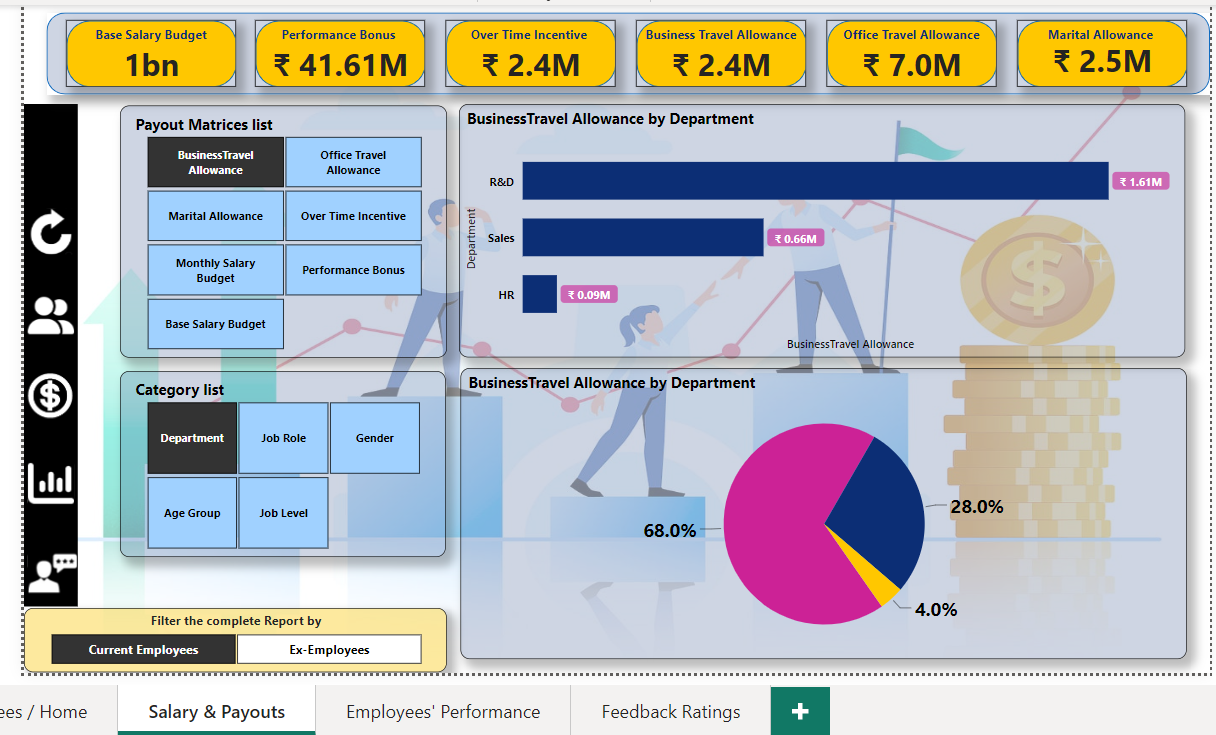

The dashboard page shown, as its layout file describes it:
{"tool":"powerbi","page":{"name":"Salary & Payouts","canvas":[1280,720],"ordinal":1},"visuals":[{"type":"shape","title":"backgroung","box":[24.3,8.1,1255,88.3],"z":0,"group":"g2"},{"type":"shape","box":[45.6,16.1,183.3,71.7],"z":0,"group":"g1"},{"type":"shape","box":[249.6,16.7,183.3,71.7],"z":0,"group":"g6"},{"type":"shape","box":[455,16.7,183.3,71.7],"z":0,"group":"g5"},{"type":"shape","box":[660.9,16.7,183.3,71.7],"z":0,"group":"g7"},{"type":"shape","box":[865.6,16.7,183.3,71.7],"z":0,"group":"g4"},{"type":"shape","box":[1071,16.7,183.3,71.7],"z":0,"group":"g3"},{"type":"actionButton","box":[0,212,58.2,64.7],"z":0,"group":"g8"},{"type":"slicer","title":"Filter the complete Report by","fields":{"Values":["Employees.attrition label"]},"box":[0,650.4,456.3,69.6],"z":0},{"type":"group","id":"g1","title":"Group 2","box":[45.6,16.1,183.3,71.7],"z":1000,"group":"g2"},{"type":"textbox","box":[45.6,16.1,183.3,36.7],"z":1000,"group":"g1"},{"type":"textbox","box":[249.6,16.7,183.3,36.7],"z":1000,"group":"g6"},{"type":"textbox","box":[455,16.7,183.3,36.7],"z":1000,"group":"g5"},{"type":"textbox","box":[660.3,16.7,183.3,36.7],"z":1000,"group":"g7"},{"type":"textbox","box":[865.6,16.7,183.3,36.7],"z":1000,"group":"g4"},{"type":"textbox","box":[1071,16.7,183.3,36.7],"z":1000,"group":"g3"},{"type":"shape","box":[0,106.8,58.2,542],"z":1000},{"type":"actionButton","box":[0,305.8,58.2,58.2],"z":1000,"group":"g8"},{"type":"group","id":"g2","title":"Group 3","box":[24.3,8.1,1255,88.3],"z":2000},{"type":"group","id":"g3","title":"Group 2","box":[1071,16.7,183.3,71.7],"z":2000,"group":"g2"},{"type":"card","title":"card","fields":{"Values":["Measures Table.$ Marital Allowance Paid Amount"]},"box":[1071.6,36.5,183.3,46.7],"z":2000,"group":"g3"},{"type":"card","title":"card","fields":{"Values":["Measures Table.$ yearly (base) Salary Budget"]},"box":[45.6,41.1,183.3,46.7],"z":2000,"group":"g1"},{"type":"card","title":"card","fields":{"Values":["Measures Table.$ Performance Bonus amount Paid"]},"box":[249.6,41.7,183.3,46.7],"z":2000,"group":"g6"},{"type":"card","title":"card","fields":{"Values":["Measures Table.$ Over Time Incentive Amount Paid"]},"box":[455,41.7,183.3,46.7],"z":2000,"group":"g5"},{"type":"card","title":"card","fields":{"Values":["Measures Table.$ BusinessTravel Allowance Paid Amount"]},"box":[660.3,41.7,183.3,46.7],"z":2000,"group":"g7"},{"type":"card","title":"card","fields":{"Values":["Measures Table.$ Office Travel Allowance Paid Amount"]},"box":[865.6,41.7,183.3,46.7],"z":2000,"group":"g4"},{"type":"actionButton","box":[0,393.2,58.2,56.6],"z":2000,"group":"g8"},{"type":"group","id":"g4","title":"Group 2","box":[865.6,16.7,183.3,71.7],"z":3000,"group":"g2"},{"type":"slicer","fields":{"Values":["#Parameter set of Payout Matrices.#Parameter set of Payout Matrices"]},"box":[103.6,108.4,352.7,271.8],"z":3000},{"type":"actionButton","box":[0,479,58.2,74.4],"z":3000,"group":"g8"},{"type":"group","id":"g5","title":"Group 2","box":[455,16.7,183.3,71.7],"z":4000,"group":"g2"},{"type":"barChart","fields":{"Y":["Measures Table.$ yearly (base) Salary Budget"],"Category":["Employees.Gender"]},"box":[469.2,106.8,784.7,273.4],"z":4000},{"type":"actionButton","box":[0,582.5,69.6,61.5],"z":4000,"group":"g8"},{"type":"group","id":"g6","title":"Group 2","box":[249.6,16.7,183.3,71.7],"z":5000,"group":"g2"},{"type":"slicer","fields":{"Values":["#Parameter- Category list.#Parameter- Category list"]},"box":[105.2,391.6,351.1,200.6],"z":5000},{"type":"group","id":"g7","title":"Business Travel payout","box":[660.3,16.7,183.3,71.7],"z":6000,"group":"g2"},{"type":"pieChart","fields":{"Y":["Measures Table.$ yearly (base) Salary Budget"],"Category":["Employees.Gender"]},"box":[470.8,391.6,783.1,313.9],"z":6000},{"type":"group","id":"g8","title":"Group 6","box":[0,212,69.6,432],"z":7000}]}

Visuals, with their boxes on the page's 1280x720 design canvas (x1, y1, x2, y2). These are canvas units, not pixel positions in the 1216x735 screenshot, which may show the page scaled, cropped or inside an application window:
"backgroung" shape: 24 8 1279 96
shape: 46 16 229 88
shape: 250 17 433 88
shape: 455 17 638 88
shape: 661 17 844 88
shape: 866 17 1049 88
shape: 1071 17 1254 88
actionButton: 0 212 58 277
"Filter the complete Report by" slicer: 0 650 456 720
"Group 2" group: 46 16 229 88
textbox: 46 16 229 53
textbox: 250 17 433 53
textbox: 455 17 638 53
textbox: 660 17 844 53
textbox: 866 17 1049 53
textbox: 1071 17 1254 53
shape: 0 107 58 649
actionButton: 0 306 58 364
"Group 3" group: 24 8 1279 96
"Group 2" group: 1071 17 1254 88
"card" card: 1072 36 1255 83
"card" card: 46 41 229 88
"card" card: 250 42 433 88
"card" card: 455 42 638 88
"card" card: 660 42 844 88
"card" card: 866 42 1049 88
actionButton: 0 393 58 450
"Group 2" group: 866 17 1049 88
slicer - #Parameter set of Payout Matrices.#Parameter set of Payout Matrices: 104 108 456 380
actionButton: 0 479 58 553
"Group 2" group: 455 17 638 88
barChart - Measures Table.$ yearly (base) Salary Budget x Employees.Gender: 469 107 1254 380
actionButton: 0 582 70 644
"Group 2" group: 250 17 433 88
slicer - #Parameter- Category list.#Parameter- Category list: 105 392 456 592
"Business Travel payout" group: 660 17 844 88
pieChart - Measures Table.$ yearly (base) Salary Budget x Employees.Gender: 471 392 1254 706
"Group 6" group: 0 212 70 644
